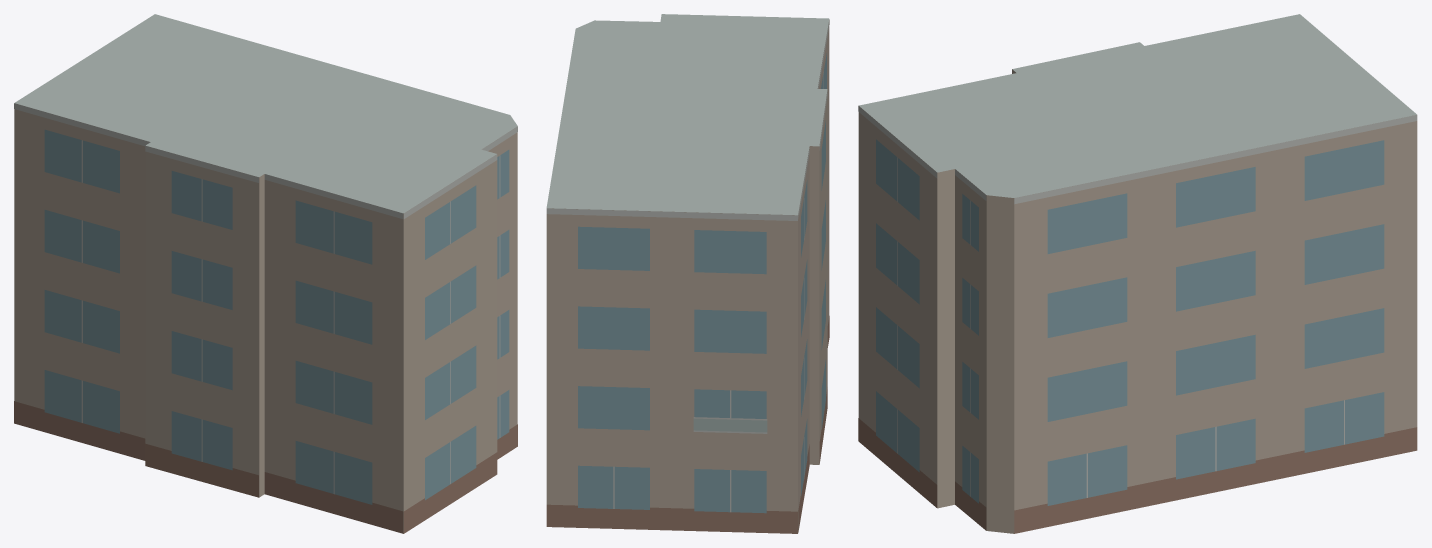
File: survey-upis-32949208.glb
3 renders of one model, left to right at view 1: azimuth 30°, elevation 25°; view 2: azimuth 150°, elevation 25°; view 3: azimuth 270°, elevation 25°, orthographic. The views are drawn at different scales.
Visible parts, largest first — view 1: survey-upis-32949208.tmp; view 2: survey-upis-32949208.tmp; view 3: survey-upis-32949208.tmp.
Boxes of the visible parts, x1,y1,x2,y2 form: survey-upis-32949208.tmp: [14, 14, 517, 533]; survey-upis-32949208.tmp: [546, 14, 829, 533]; survey-upis-32949208.tmp: [858, 14, 1417, 533].
Bounding box in the file's own units: 15.59 × 13.25 × 20.
